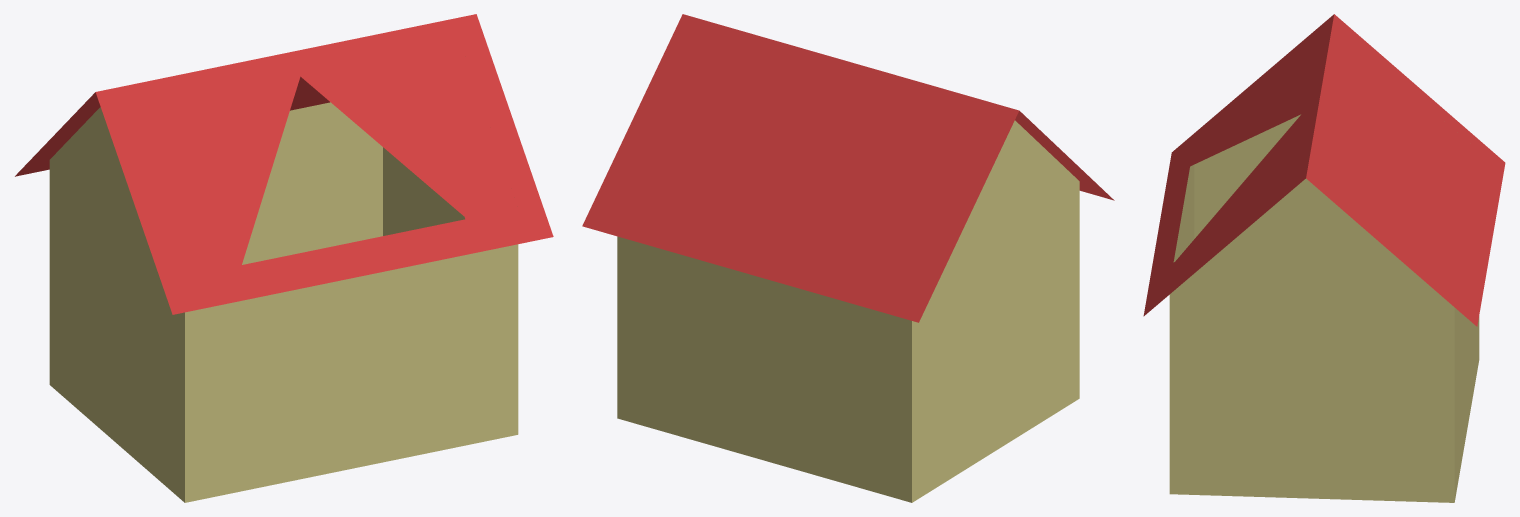
3 views of the same model, side by side, from view 1: azimuth 30°, elevation 25°; view 2: azimuth 150°, elevation 25°; view 3: azimuth 270°, elevation 25° (orthographic). The views are drawn at different scales.
Bounding box in the file's own units: 12.7 × 11.12 × 11.2.
